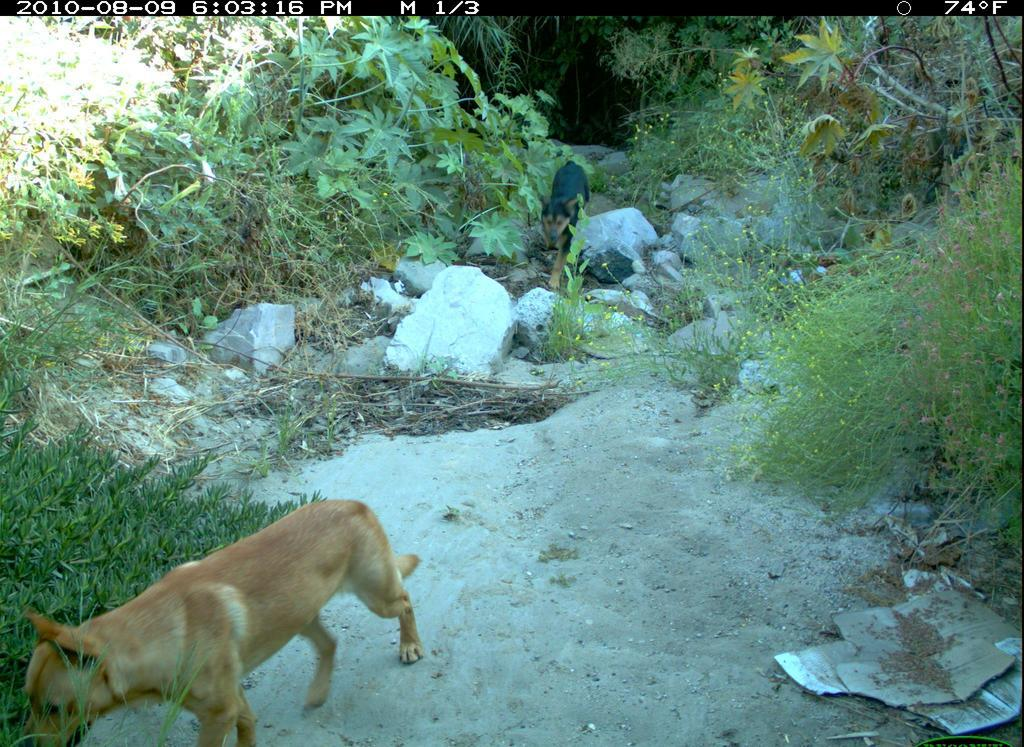dog: (16, 495, 474, 745)
